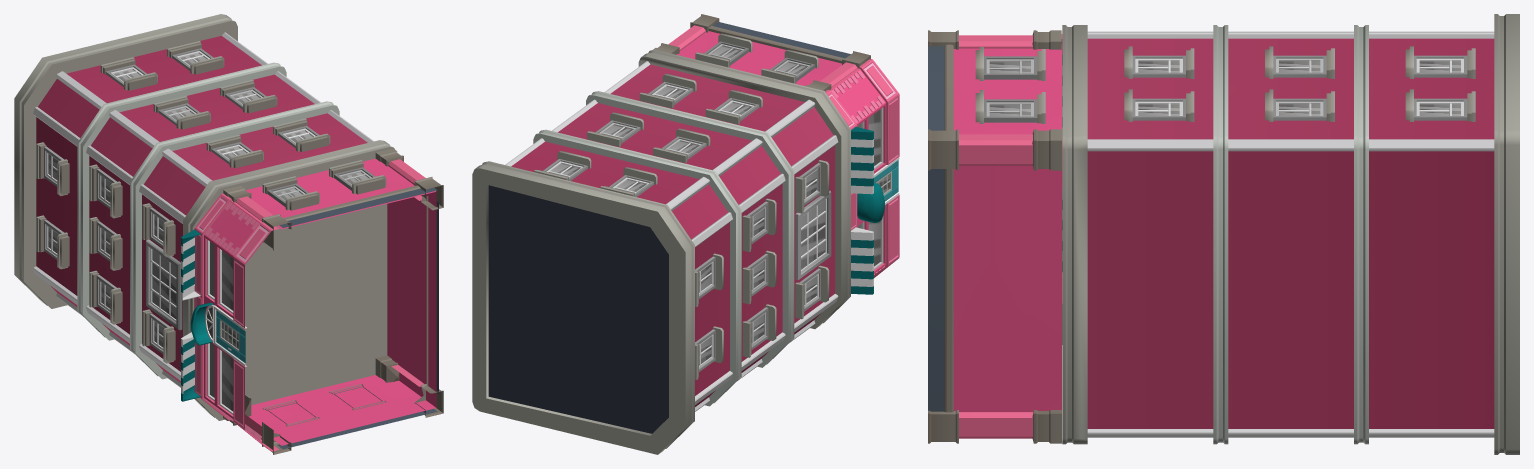
The model's file is Building_3_3_I.fbx.
3 renders of one model, left to right at view 1: azimuth 30°, elevation 25°; view 2: azimuth 150°, elevation 25°; view 3: azimuth 270°, elevation 25°, orthographic. The views are drawn at different scales.
Visible parts, largest first — view 1: Building 3_3_I; view 2: Building 3_3_I; view 3: Building 3_3_I.
Part boxes in pixels (left/top/right/bottom): Building 3_3_I: left=14, top=14, right=443, bottom=454; Building 3_3_I: left=472, top=14, right=899, bottom=454; Building 3_3_I: left=928, top=14, right=1519, bottom=454.
Bounding box in the file's own units: 808 × 837 × 1383.
